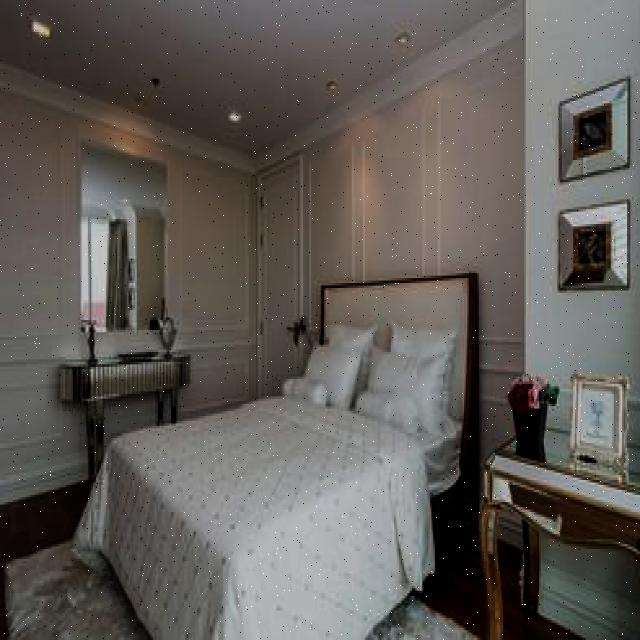bed: (101, 303, 472, 640)
